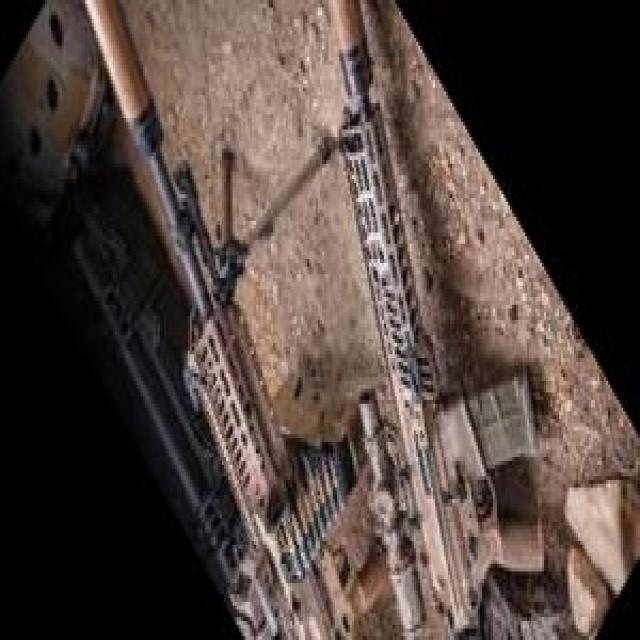Rifle: (84, 0, 336, 640), (330, 0, 548, 640)
